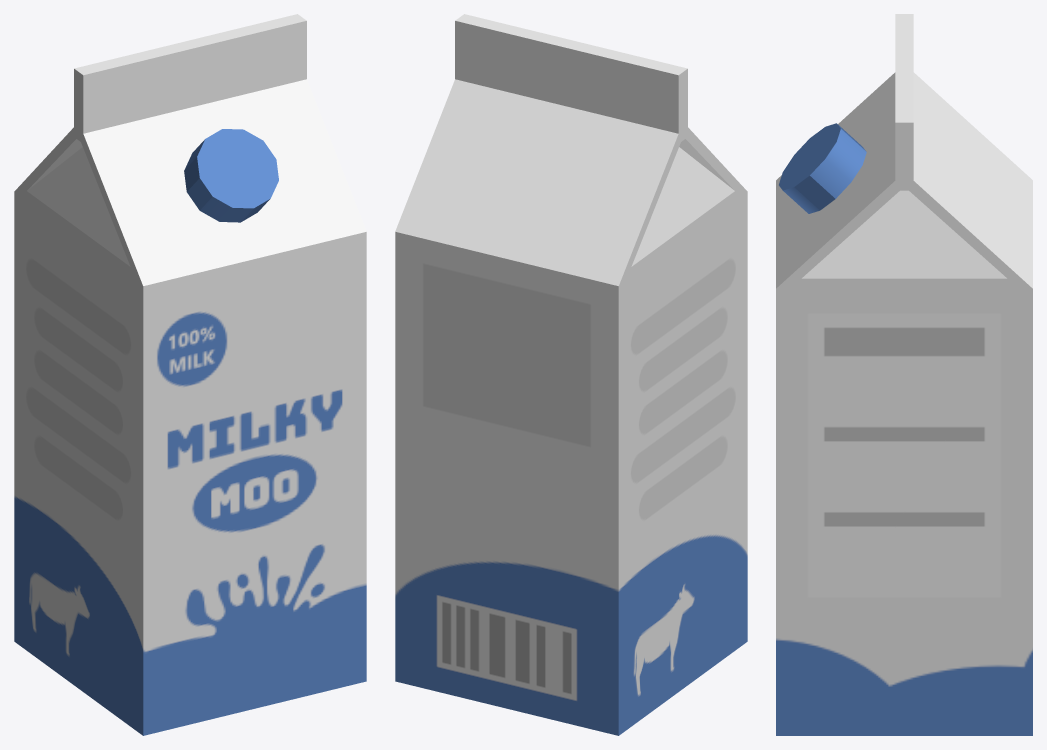
The model's file is Milk01.fbx.
3 renders of one model, left to right at view 1: azimuth 30°, elevation 25°; view 2: azimuth 150°, elevation 25°; view 3: azimuth 270°, elevation 25°, orthographic.
Parts seen in each view (by area): view 1: Milk01; view 2: Milk01; view 3: Milk01.
Part boxes in pixels (x1,y1,x2,y2): Milk01: [14, 14, 366, 735]; Milk01: [395, 14, 747, 735]; Milk01: [776, 14, 1032, 735].
Bounding box in the file's own units: 0.11 × 0.29 × 0.11.
